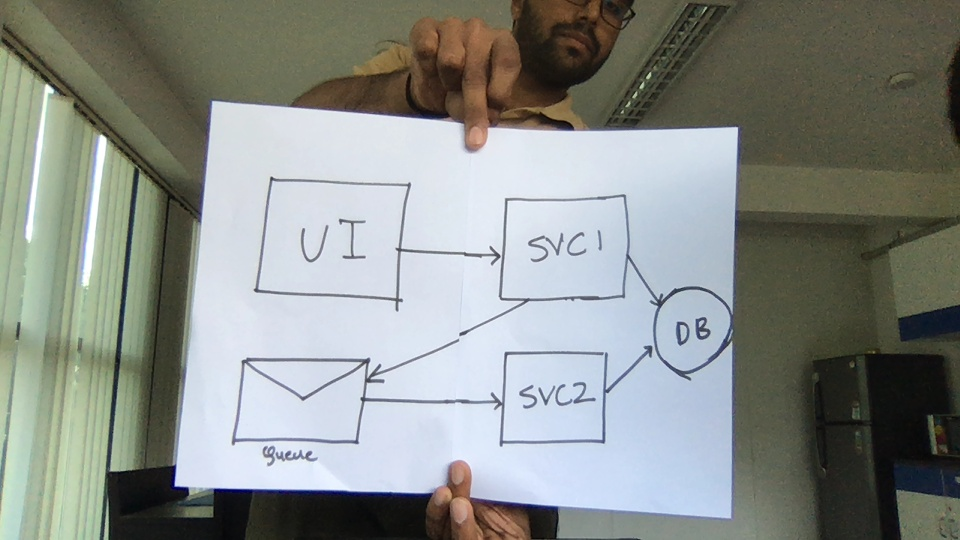db: (645, 278, 733, 383)
ec2: (493, 189, 639, 314), (494, 337, 627, 461)
sns: (227, 346, 376, 471)
ui: (251, 169, 415, 317)
